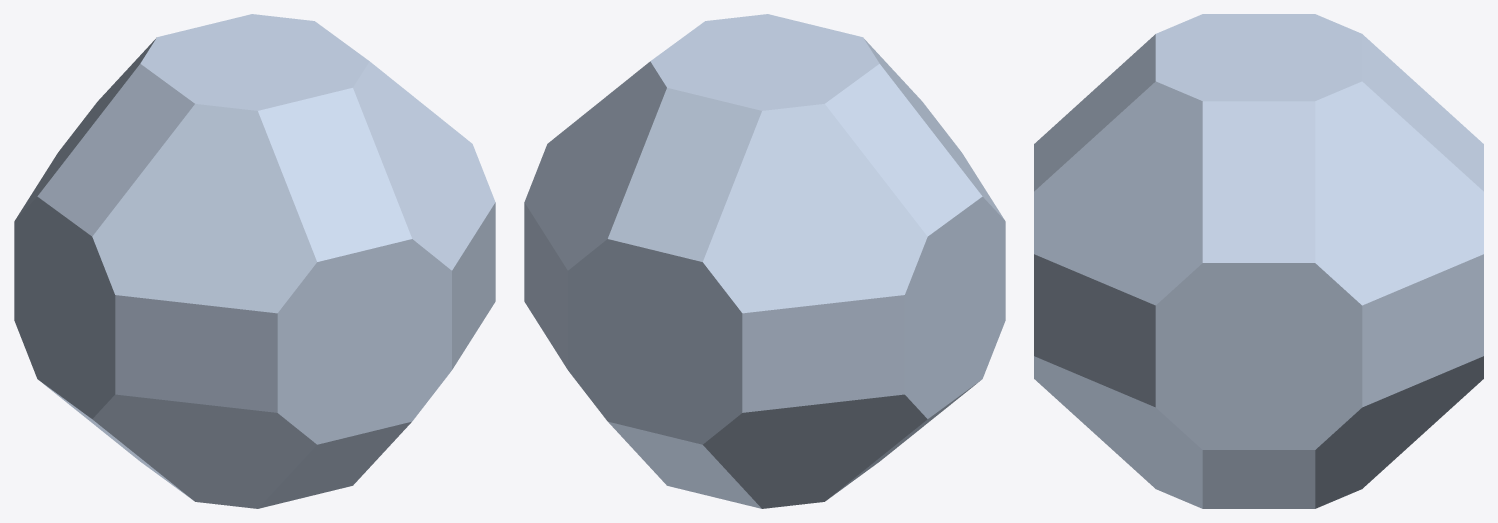
Rendered from octahedral_symmetry.glb.
3 views of the same model, side by side, from view 1: azimuth 30°, elevation 25°; view 2: azimuth 150°, elevation 25°; view 3: azimuth 270°, elevation 25° (orthographic). The views are drawn at different scales.
Bounding box in the file's own units: 8 × 8 × 8.
